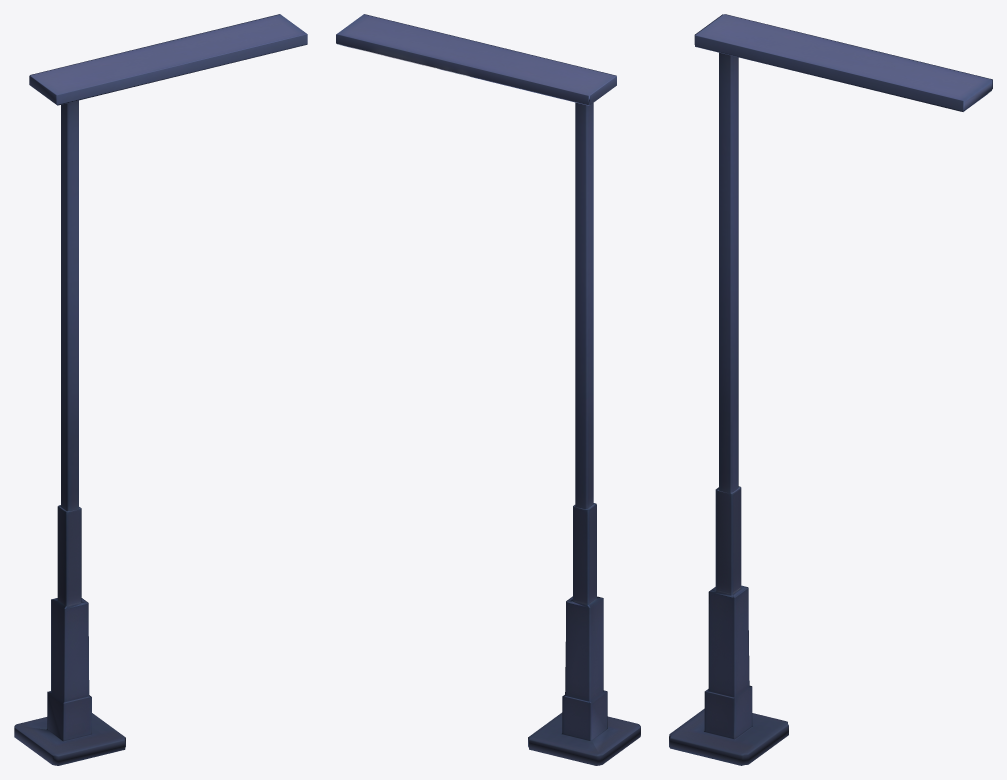
The model's file is street-lamp.glb.
3 renders of one model, left to right at view 1: azimuth 30°, elevation 25°; view 2: azimuth 150°, elevation 25°; view 3: azimuth 330°, elevation 25°, orthographic. The views are drawn at different scales.
Visible parts, largest first — view 1: tripo_node_kodyurd-model-81____________________; view 2: tripo_node_kodyurd-model-81____________________; view 3: tripo_node_kodyurd-model-81____________________.
Boxes of the visible parts, x1,y1,x2,y2 form: tripo_node_kodyurd-model-81____________________: (14,14,307,765); tripo_node_kodyurd-model-81____________________: (336,14,640,765); tripo_node_kodyurd-model-81____________________: (669,14,992,765).
Bounding box in the file's own units: 0.4199 × 0.998 × 0.1191.
Materials: 1 (1 with a texture image).
